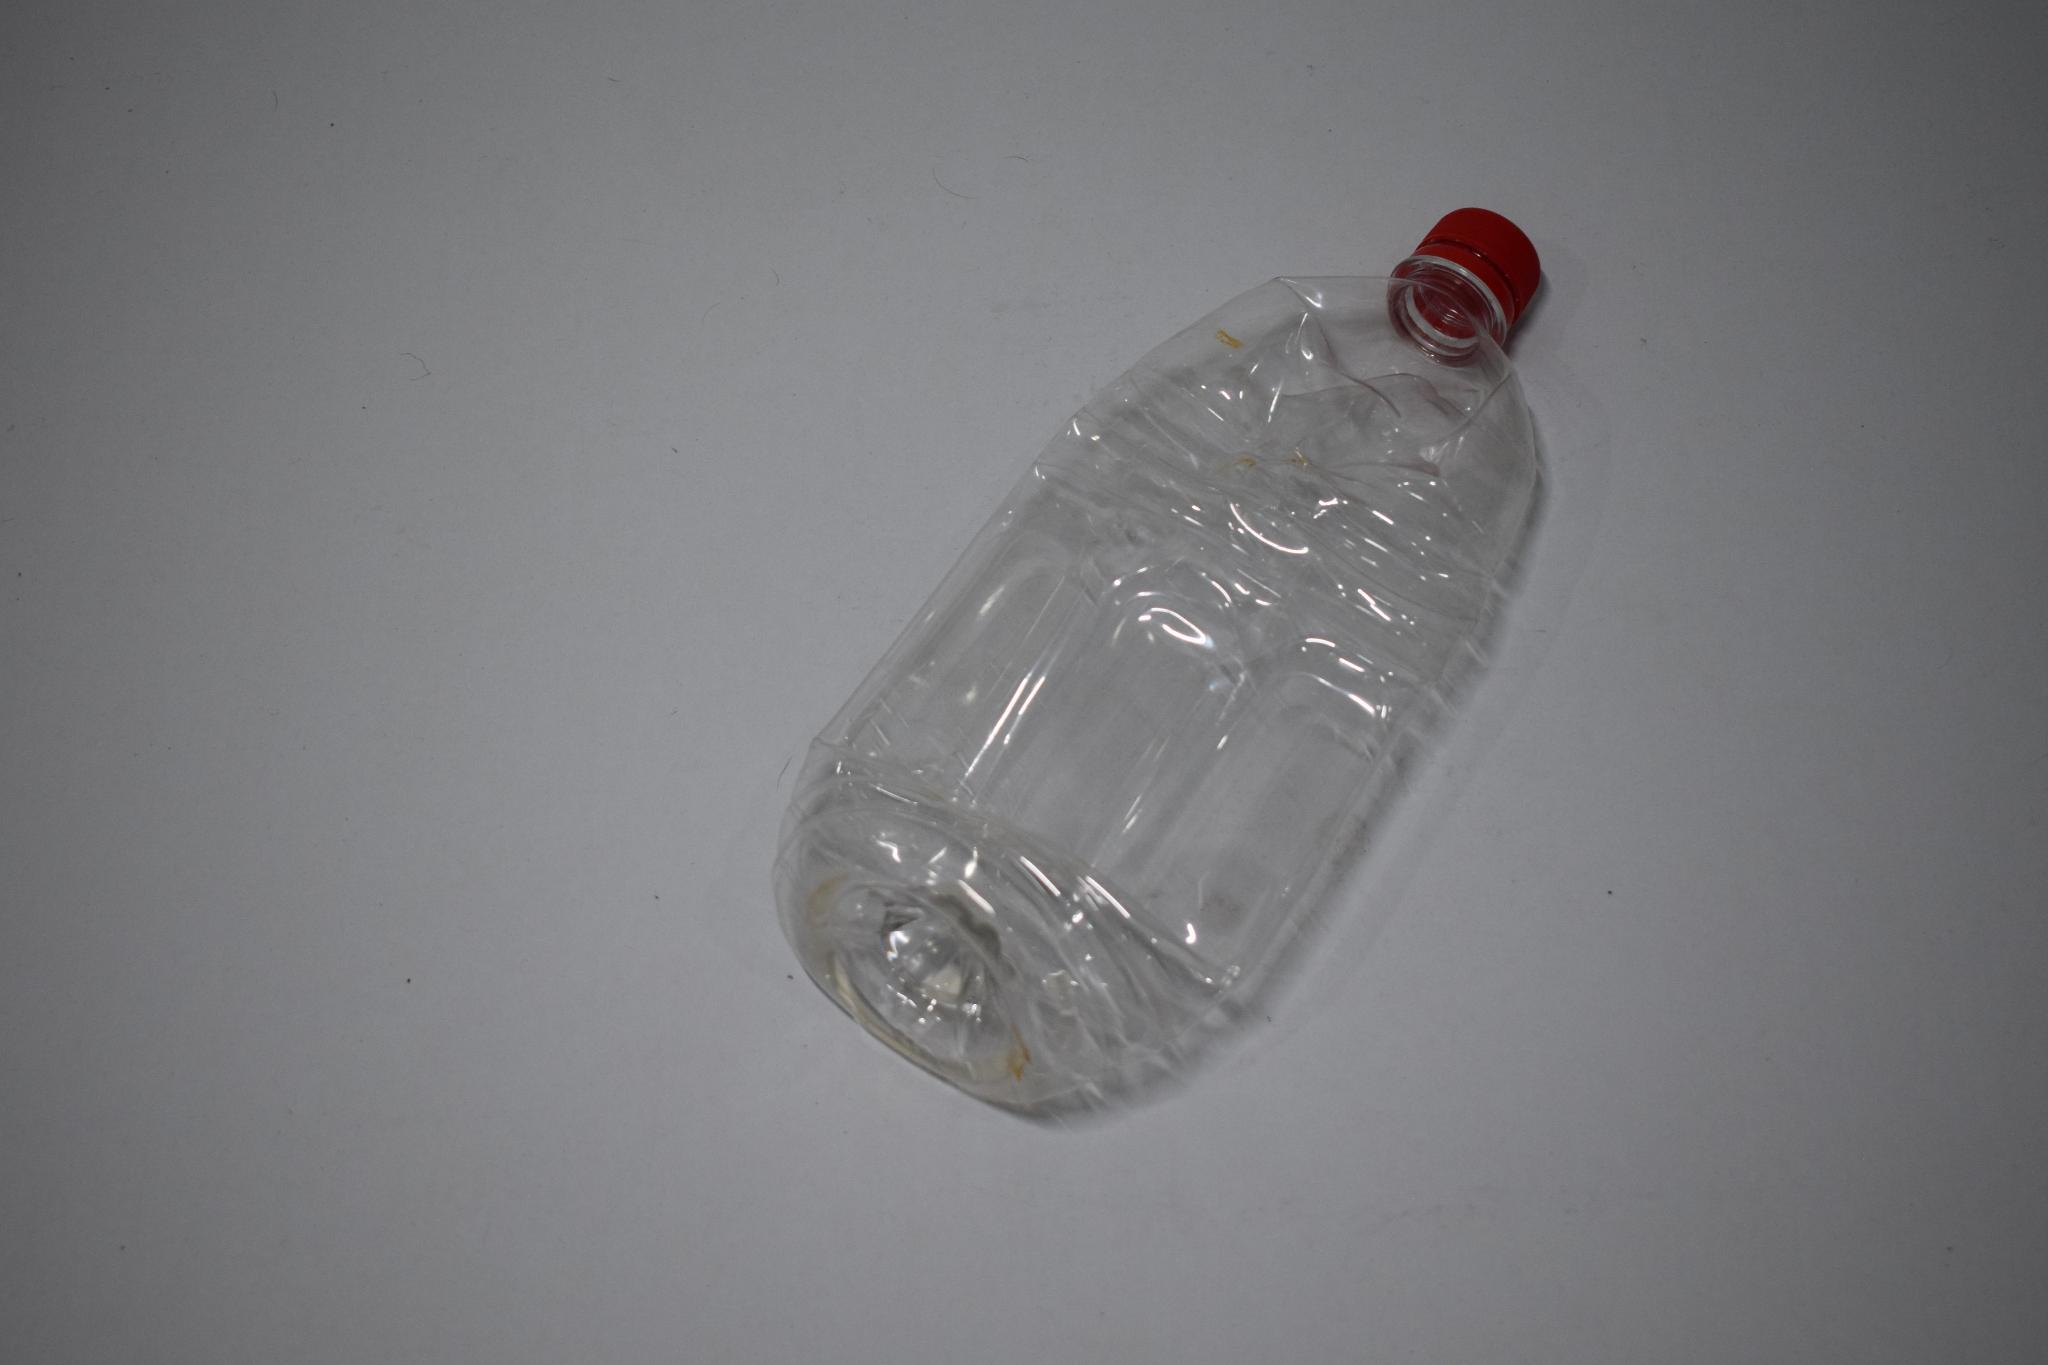bottle: (754, 201, 1618, 1125)
